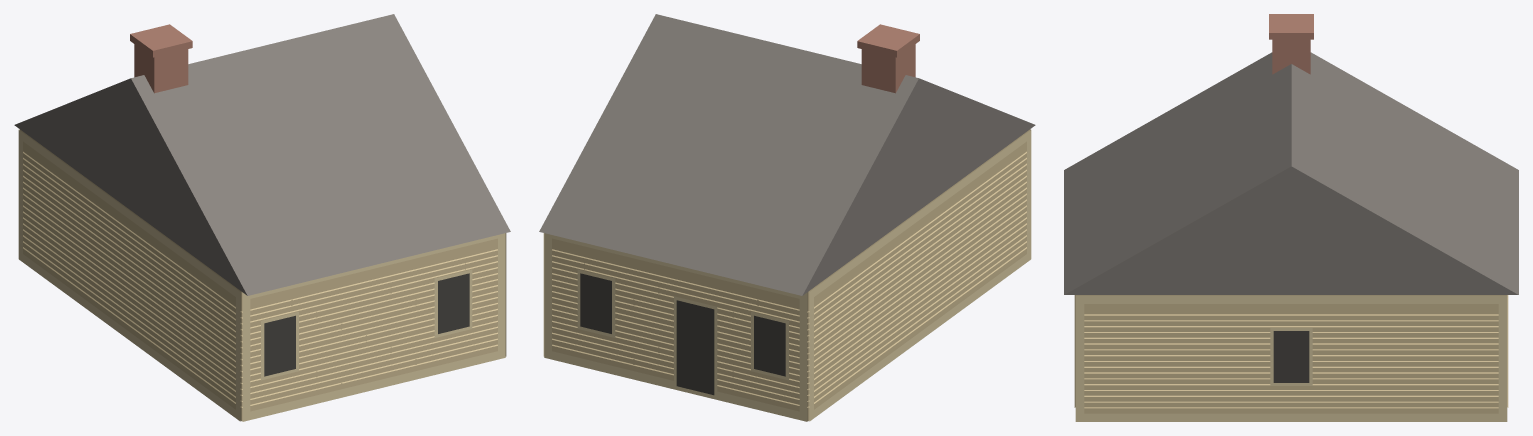
File: recon_1835_blk_south_water_wells_d5_02__inferred_1835.glb
3 renders of one model, left to right at view 1: azimuth 30°, elevation 25°; view 2: azimuth 150°, elevation 25°; view 3: azimuth 270°, elevation 25°, orthographic. The views are drawn at different scales.
Visible parts, largest first — view 1: recon_1835_blk_south_water_wells_d5_02__inferred_1835; view 2: recon_1835_blk_south_water_wells_d5_02__inferred_1835; view 3: recon_1835_blk_south_water_wells_d5_02__inferred_1835.
Boxes of the visible parts, x1,y1,x2,y2 form: recon_1835_blk_south_water_wells_d5_02__inferred_1835: (14, 14, 510, 421); recon_1835_blk_south_water_wells_d5_02__inferred_1835: (539, 14, 1035, 421); recon_1835_blk_south_water_wells_d5_02__inferred_1835: (1064, 14, 1518, 421).
Size of the model in its own units: 6.55 by 6.94 by 9.95.
